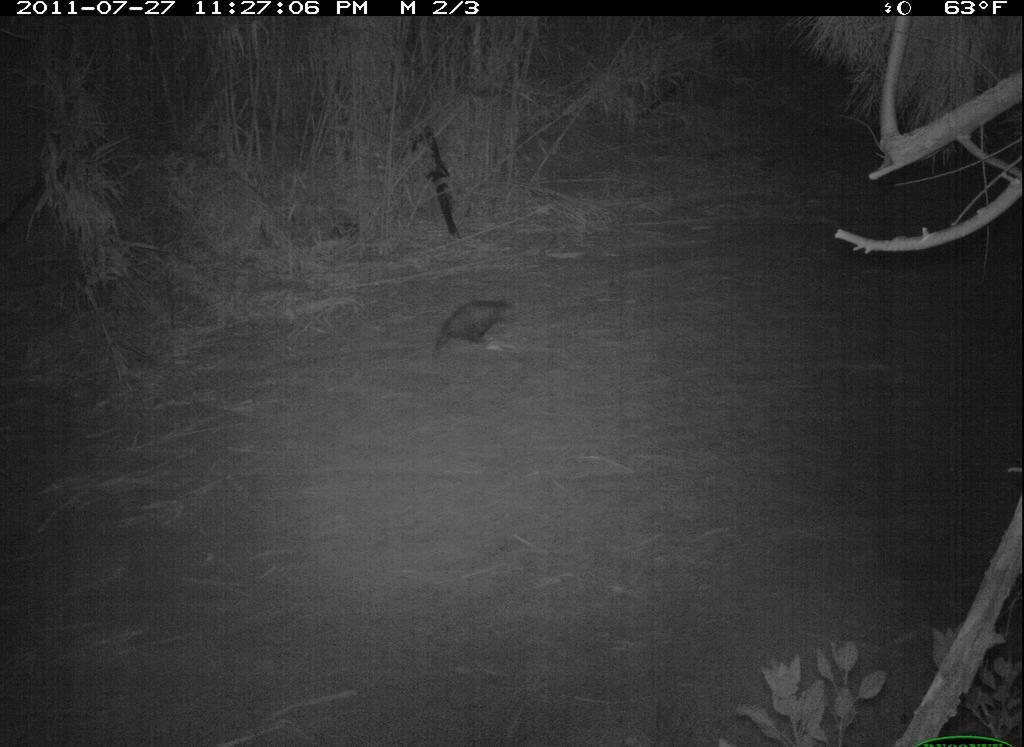opossum: (427, 292, 533, 359)
